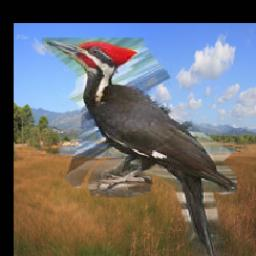Woodpecker: (42, 38, 237, 256)
